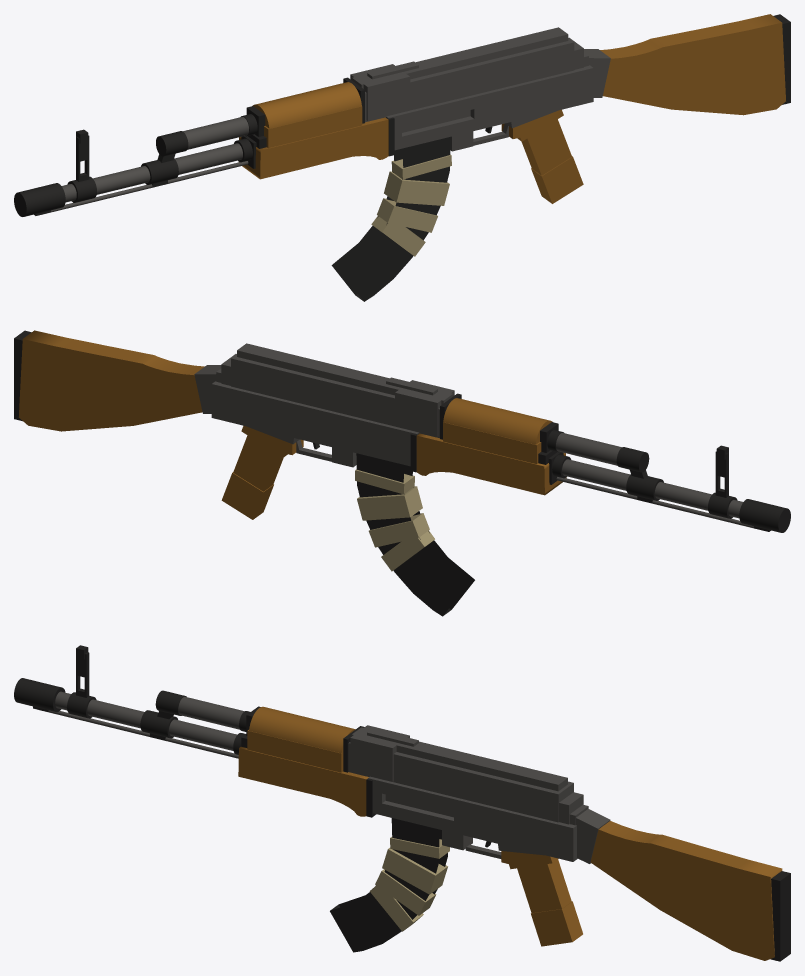
3 renders of one model, top to bottom at view 1: azimuth 30°, elevation 25°; view 2: azimuth 150°, elevation 25°; view 3: azimuth 330°, elevation 25°, orthographic.
Parts seen in each view (by area): view 1: Deckfläche_1, Würfel_2, Würfel_1, Deckfläche_1_3, Deckfläche_2_2, Würfel_16, Zylinder, Zylinder_2, Würfel_21, Loft_1, Würfel_2_2, Würfel_13 (+14 smaller); view 2: Deckfläche_2, Würfel_2, Würfel_1, Deckfläche_2_3, Deckfläche_1_2, Würfel_16, Zylinder, Zylinder_2, Loft_1, Würfel_2_2, Würfel_21, Würfel_13 (+14 smaller); view 3: Deckfläche_1, Würfel_2, Würfel_1, Deckfläche_1_3, Deckfläche_2_2, Würfel_16, Zylinder, Zylinder_2, Loft_1, Würfel_21, Würfel_13, Würfel_2_2 (+13 smaller).
Part boxes in pixels (x1,y1,x2,y2): Deckfläche_1: [603, 22, 785, 115]; Würfel_2: [386, 65, 593, 150]; Würfel_1: [365, 38, 574, 122]; Deckfläche_1_3: [341, 137, 450, 301]; Deckfläche_2_2: [260, 119, 388, 179]; Würfel_16: [352, 27, 568, 88]; Zylinder: [252, 82, 361, 128]; Zylinder_2: [61, 143, 242, 202]; Würfel_21: [350, 64, 410, 120]; Loft_1: [600, 14, 781, 58]; Würfel_2_2: [264, 106, 362, 148]; Würfel_13: [521, 119, 571, 175]; Deckfläche_2: [18, 339, 202, 431]; Würfel_2: [211, 381, 419, 466]; Würfel_1: [231, 354, 439, 438]; Deckfläche_2_3: [356, 453, 465, 616]; Deckfläche_1_2: [416, 435, 544, 495]; Würfel_16: [237, 343, 453, 404]; Zylinder: [443, 398, 552, 444]; Zylinder_2: [562, 459, 743, 518]; Loft_1: [23, 330, 204, 375]; Würfel_2_2: [443, 422, 541, 463]; Würfel_21: [395, 380, 454, 436]; Würfel_13: [233, 435, 283, 491]; Deckfläche_1: [590, 829, 774, 960]; Würfel_2: [368, 776, 577, 861]; Würfel_1: [348, 742, 573, 822]; Deckfläche_1_3: [330, 818, 439, 952]; Deckfläche_2_2: [238, 748, 366, 816]; Würfel_16: [351, 727, 567, 791]; Zylinder: [249, 706, 355, 753]; Zylinder_2: [55, 691, 236, 750]; Loft_1: [598, 821, 782, 957]; Würfel_21: [350, 725, 409, 781]; Würfel_13: [517, 859, 571, 912]; Würfel_2_2: [247, 729, 343, 772].
Size of the model in its own units: 914 by 266 by 46.42.
